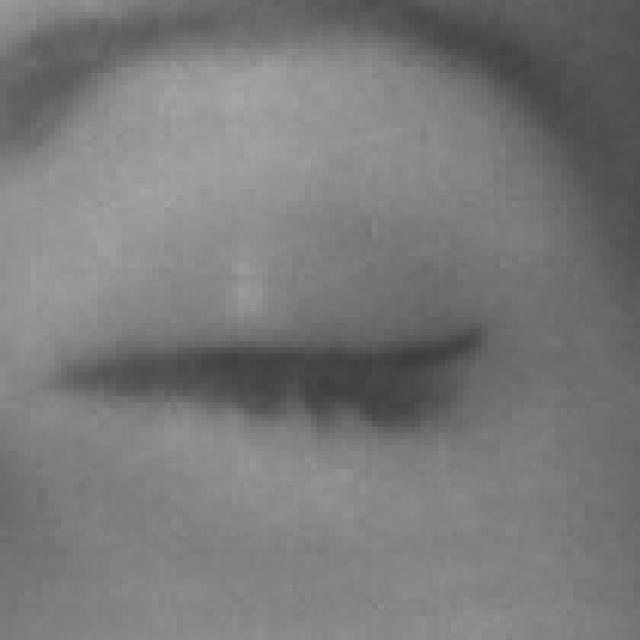Eyeclosed: (60, 172, 488, 532)
